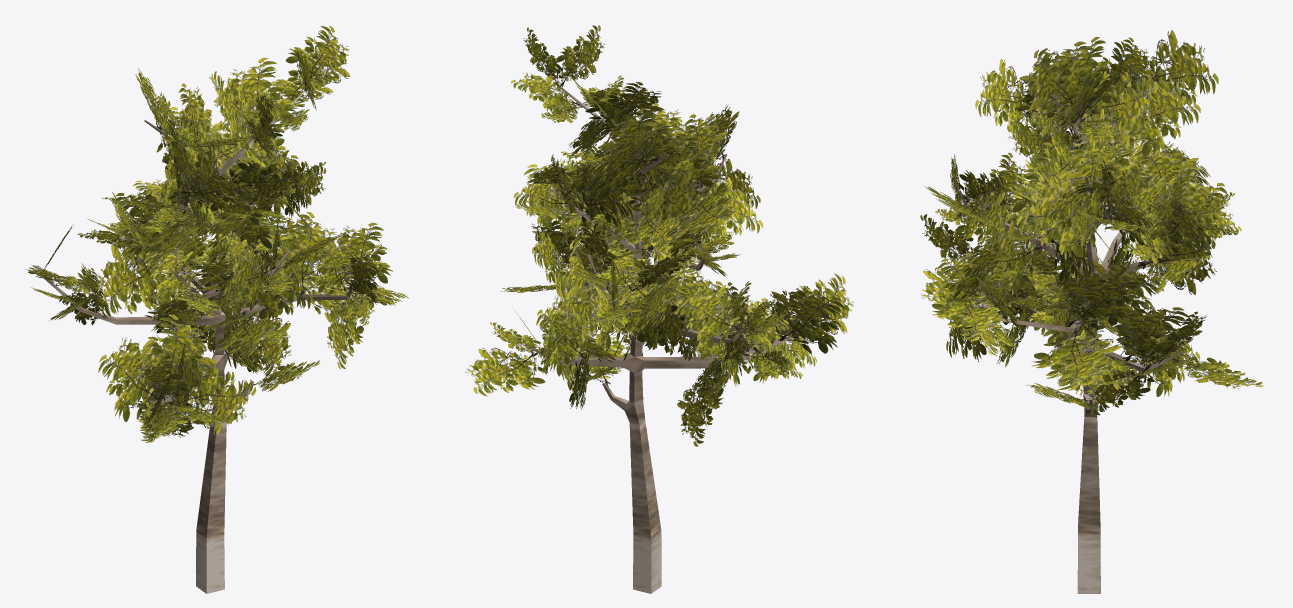
The model's file is salTree.fbx.
3 renders of one model, left to right at view 1: azimuth 30°, elevation 25°; view 2: azimuth 150°, elevation 25°; view 3: azimuth 270°, elevation 25°, orthographic. The views are drawn at different scales.
Parts seen in each view (by area): view 1: salTree; view 2: salTree; view 3: salTree.
Boxes of the visible parts, x1,y1,x2,y2 form: salTree: [25, 26, 408, 593]; salTree: [465, 25, 854, 593]; salTree: [920, 30, 1263, 593].
Size of the model in its own units: 16.68 by 15.36 by 26.33.
2 materials, 2 textured.
